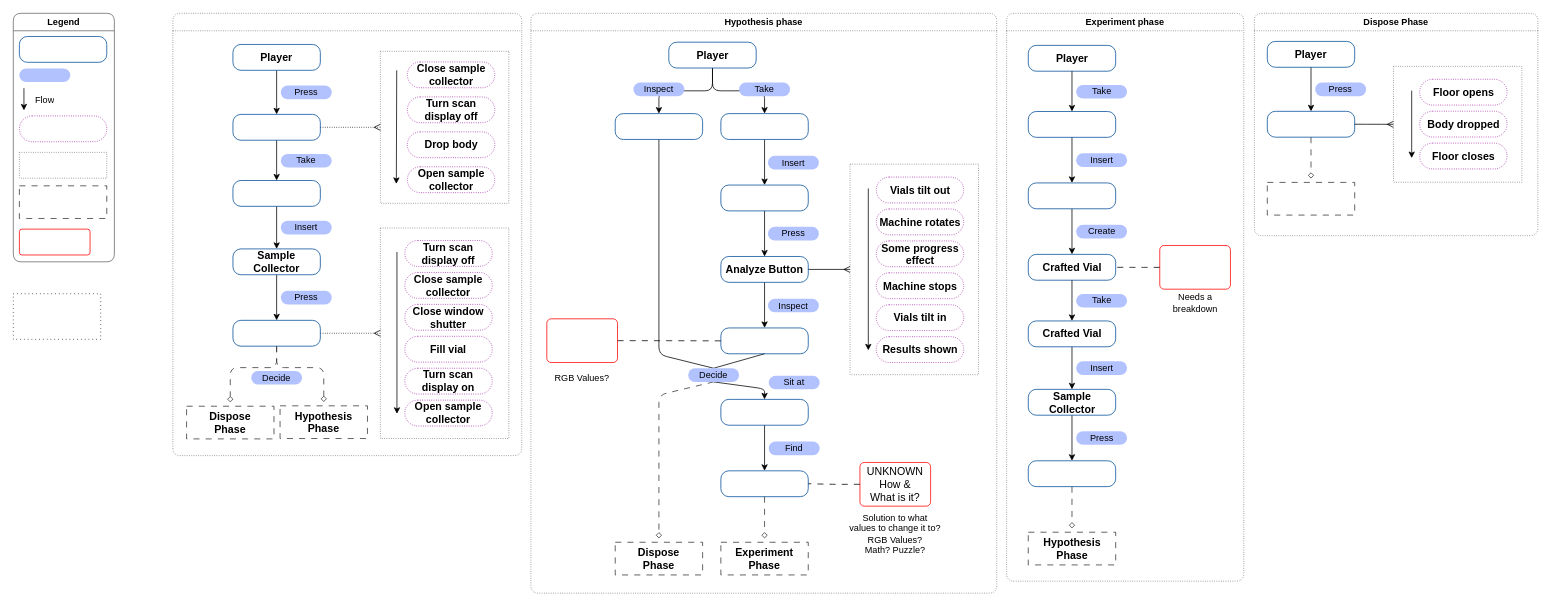
Image size: 1551x606. Some labels were removed from this diagram. Here are the shapes that lost their labels. From the top down, the box of each, then its label:
(19, 36, 107, 62): Object
(19, 68, 70, 82): Action
(19, 115, 107, 142): Object's sub-action
(232, 114, 320, 140): Request Body Button
(614, 113, 703, 139): X-Ray Scan
(720, 113, 808, 139): First filled vial or crafted vial
(1028, 111, 1116, 137): Filled Vial
(1267, 111, 1355, 137): Dispose Body Button
(19, 152, 107, 178): Group
(19, 185, 107, 218): Phase change
(232, 180, 320, 206): Empty Vial
(720, 184, 808, 211): Analyzer
(1028, 182, 1116, 209): Chem Crafter
(1267, 182, 1355, 215): Start Phase
(19, 228, 90, 255): Unknown
(172, 13, 522, 456): Request phase
(1159, 245, 1230, 289): UNKNOWN How?
(13, 293, 101, 339): Spacer
(232, 320, 320, 346): Test Button
(546, 318, 618, 363): UNKNOWN What is it?
(720, 327, 808, 354): Results
(720, 399, 808, 425): PC
(720, 470, 808, 497): Cure Info.
(1028, 460, 1116, 487): Test
